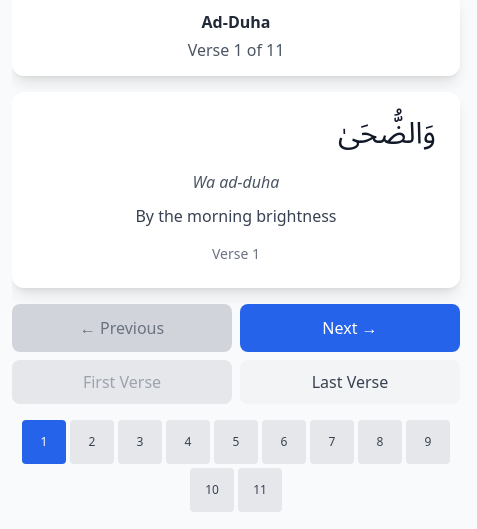
Test: Reading Mode Integration › should jump to last verse
This screenshot has width=477, height=529.
Step 1. Click the button "Last Verse" → (350, 382), box [240,360,460,404]
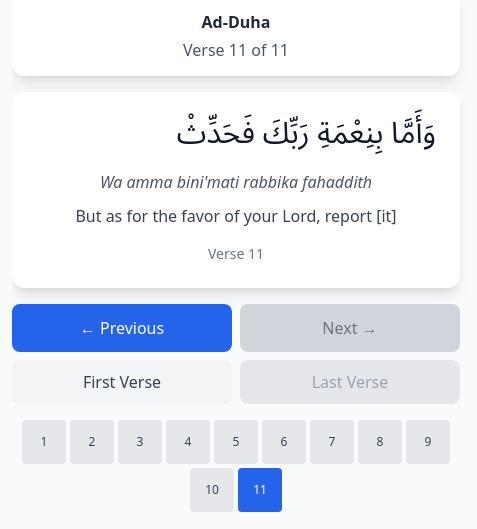
Now the text "وَأَمَّا بِنِعْمَةِ رَبِّكَ فَحَدِّثْ" is shown, box [177,102,436,165]
Now the text "Verse 11 of 11" is shown, box [183,39,289,61]
